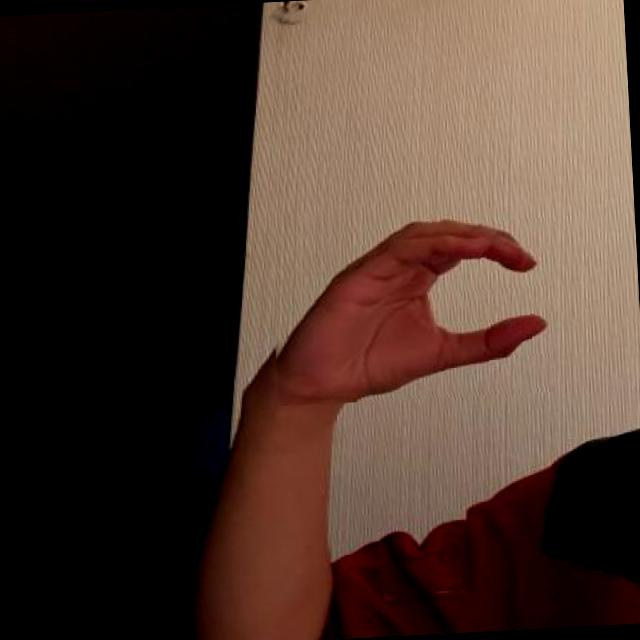C: (264, 200, 554, 407)
